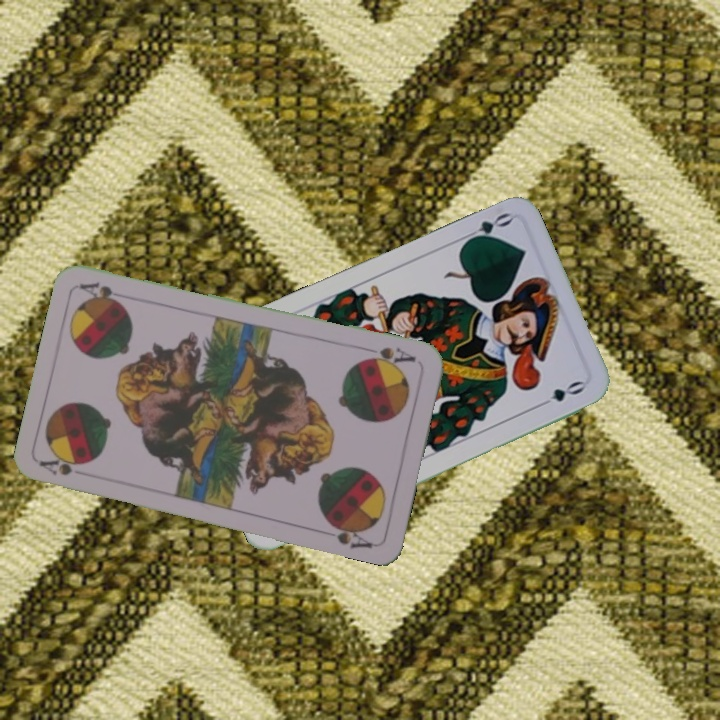GO: (457, 208, 515, 247)
SA: (359, 343, 419, 371), (36, 453, 89, 478)
